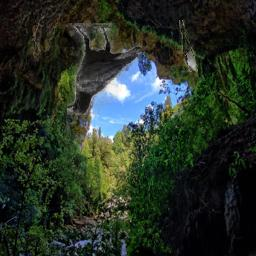Crow: (68, 23, 143, 115)
Cuckoo: (180, 20, 199, 72)
